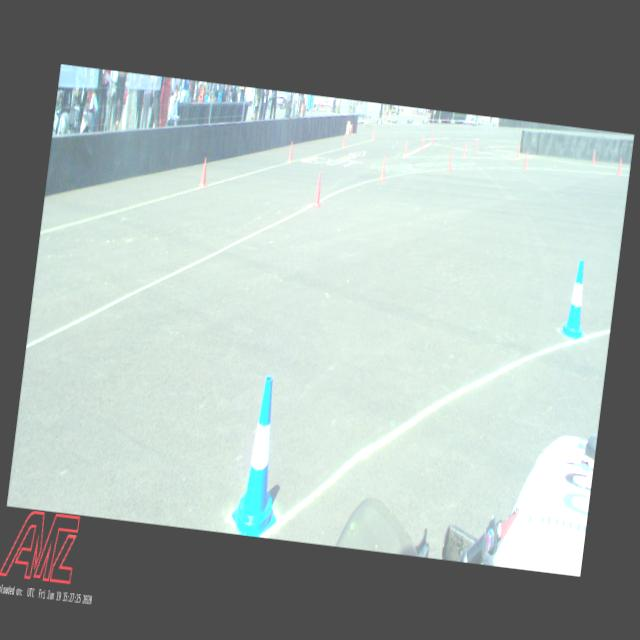blue_cone: (229, 373, 293, 538), (558, 258, 594, 340)
unknown_cone: (312, 172, 324, 208), (198, 157, 209, 186), (378, 154, 388, 180), (446, 150, 454, 170), (287, 141, 294, 161), (522, 151, 528, 169), (617, 157, 623, 175), (590, 150, 596, 165), (403, 140, 408, 156), (473, 138, 478, 152), (463, 142, 467, 158), (342, 132, 346, 147), (516, 144, 520, 159), (371, 126, 375, 140), (420, 135, 424, 148), (431, 132, 434, 144)
